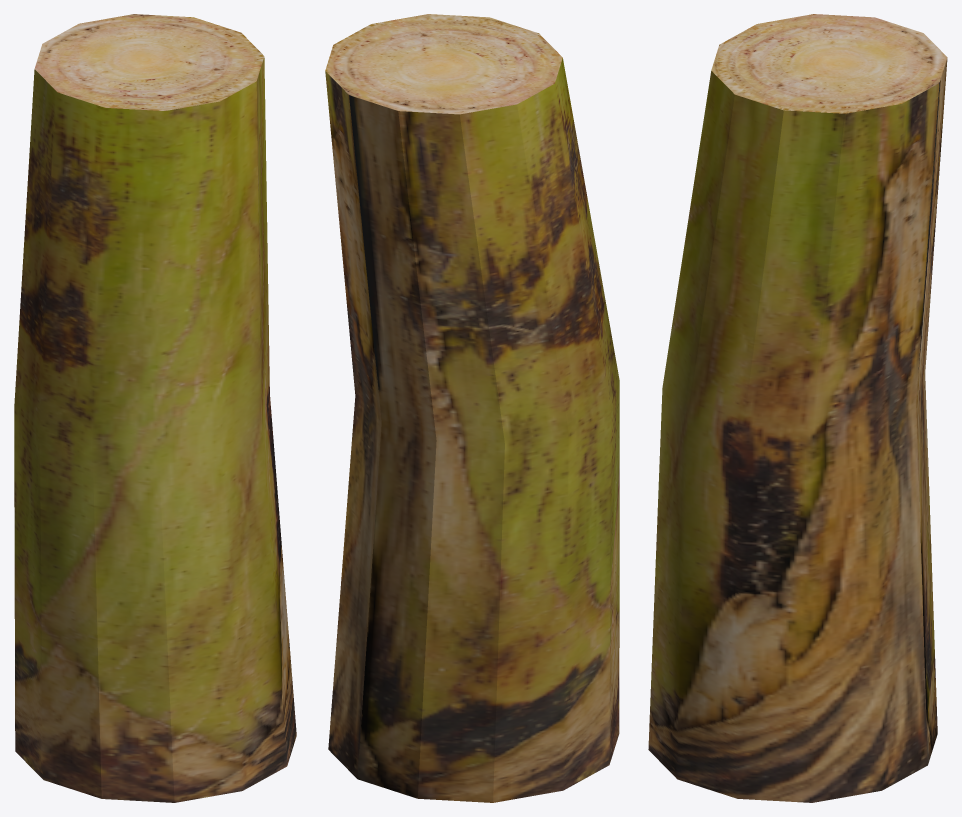
Rendered from BananaTrunk1.fbx.
3 renders of one model, left to right at view 1: azimuth 30°, elevation 25°; view 2: azimuth 150°, elevation 25°; view 3: azimuth 270°, elevation 25°, orthographic. The views are drawn at different scales.
Parts seen in each view (by area): view 1: BananaTrunk 1; view 2: BananaTrunk 1; view 3: BananaTrunk 1.
Boxes of the visible parts, x1,y1,x2,y2 form: BananaTrunk 1: [14, 14, 296, 802]; BananaTrunk 1: [325, 14, 619, 802]; BananaTrunk 1: [648, 14, 947, 802].
Size of the model in its own units: 25.02 by 64.59 by 25.61.
Materials: 1 (1 with a texture image).
